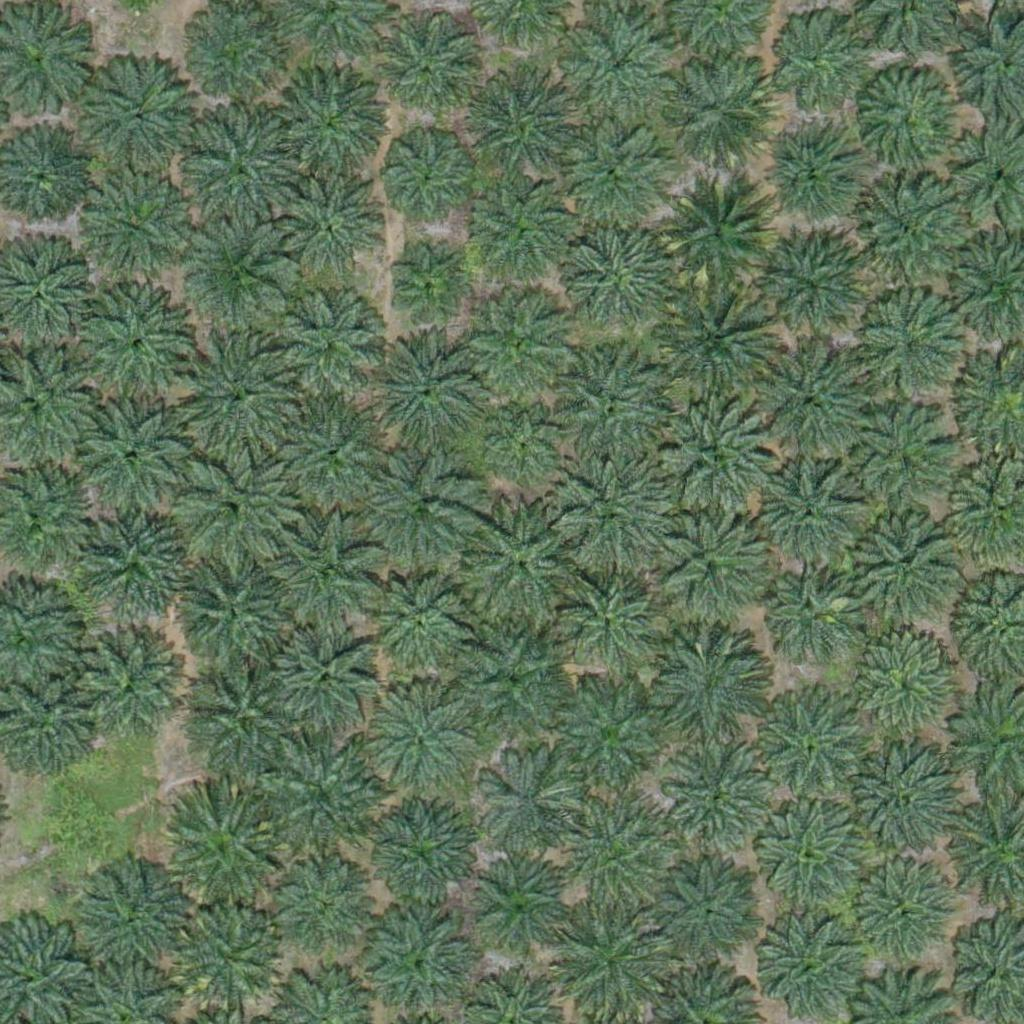Kelapa_Sawit: (180, 111, 305, 237), (173, 332, 298, 458), (169, 447, 294, 573), (465, 503, 590, 629), (551, 350, 676, 476), (160, 791, 285, 916), (556, 225, 669, 339), (467, 68, 580, 182), (274, 398, 387, 512), (271, 291, 384, 405), (753, 801, 866, 915), (647, 856, 760, 970), (853, 176, 966, 289), (182, 219, 295, 332), (76, 173, 189, 286), (79, 55, 192, 168), (270, 623, 383, 736), (267, 519, 380, 632), (366, 803, 479, 916), (557, 455, 670, 568), (651, 632, 764, 745), (654, 512, 767, 625), (659, 408, 772, 521), (756, 691, 869, 804), (366, 339, 478, 453), (368, 453, 480, 567), (456, 632, 568, 746), (551, 683, 663, 797), (665, 742, 777, 856), (556, 903, 668, 1017), (758, 235, 870, 348), (660, 54, 772, 167), (665, 179, 777, 292), (561, 9, 673, 122), (272, 63, 384, 176), (74, 629, 186, 742), (81, 504, 193, 617), (73, 401, 185, 514), (78, 291, 190, 404), (178, 561, 290, 674), (185, 659, 297, 772), (267, 746, 379, 859), (555, 803, 667, 916), (660, 284, 772, 397), (755, 344, 867, 457), (751, 453, 863, 566), (843, 747, 955, 860), (849, 630, 961, 743), (850, 516, 962, 629), (859, 67, 959, 168), (764, 126, 864, 227), (767, 12, 867, 113), (281, 177, 381, 278), (186, 1, 286, 102), (374, 688, 474, 789), (468, 859, 568, 960), (468, 301, 568, 402), (761, 557, 861, 658), (849, 400, 949, 501), (859, 291, 959, 392), (761, 918, 861, 1019), (369, 912, 469, 1013), (272, 855, 372, 956), (178, 905, 278, 1006), (88, 867, 188, 968), (565, 120, 665, 220), (473, 180, 573, 280), (367, 571, 467, 671), (474, 756, 574, 856), (560, 567, 660, 667), (856, 862, 956, 962), (384, 136, 472, 224), (386, 31, 474, 119), (387, 251, 462, 327), (489, 410, 564, 486)
